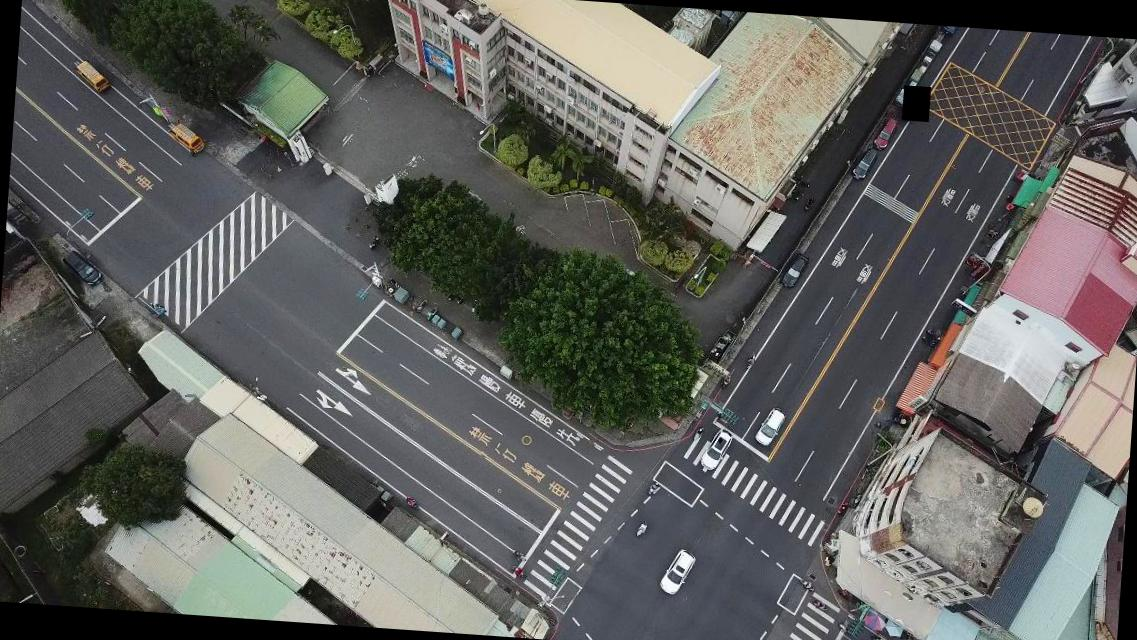vehicle: (657, 547, 696, 597), (59, 248, 104, 288), (699, 426, 732, 472), (754, 406, 786, 448), (73, 60, 110, 94), (166, 121, 204, 152), (780, 250, 808, 290), (850, 145, 877, 183), (873, 117, 897, 150)
